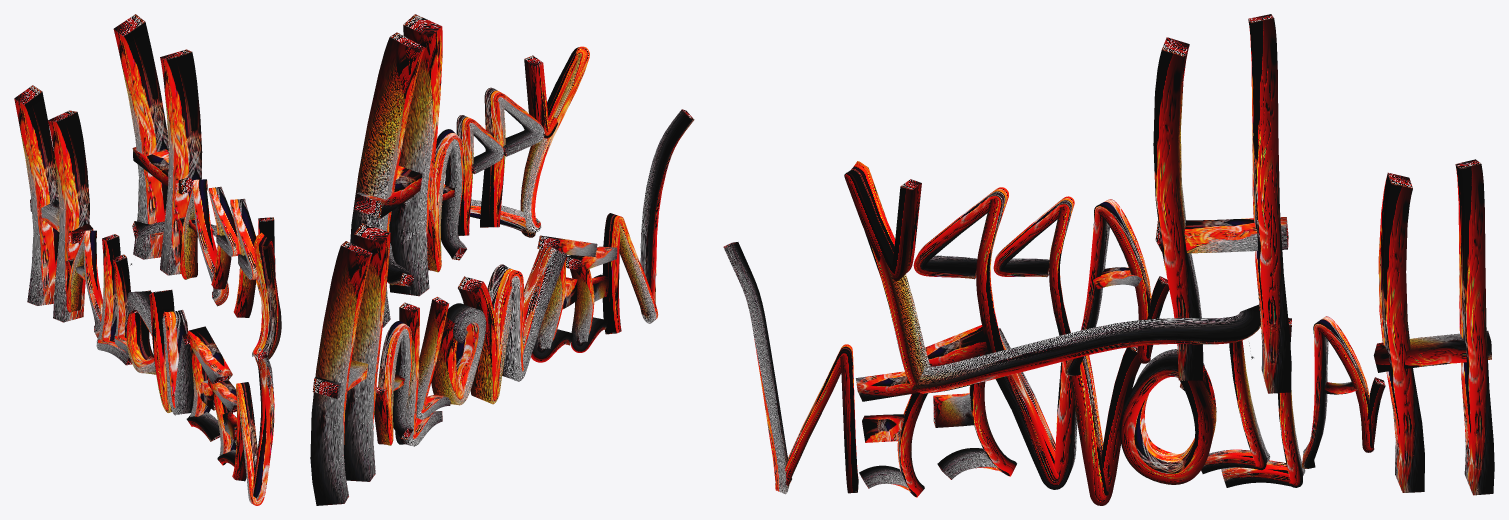
File: happy_halloween_2021.glb
The picture shows the model from 3 angles, left to right: view 1: azimuth 30°, elevation 25°; view 2: azimuth 150°, elevation 25°; view 3: azimuth 270°, elevation 25°; orthographic projection. The views are drawn at different scales.
Parts seen in each view (by area): view 1: Object_3; view 2: Object_3; view 3: Object_3.
Boxes of the visible parts, x1=… form: Object_3: x1=14, y1=14, x2=281, y2=505; Object_3: x1=310, y1=14, x2=694, y2=505; Object_3: x1=723, y1=14, x2=1494, y2=505.
Bounding box in the file's own units: 23.67 × 65.18 × 89.4.
6 materials, 6 textured.
